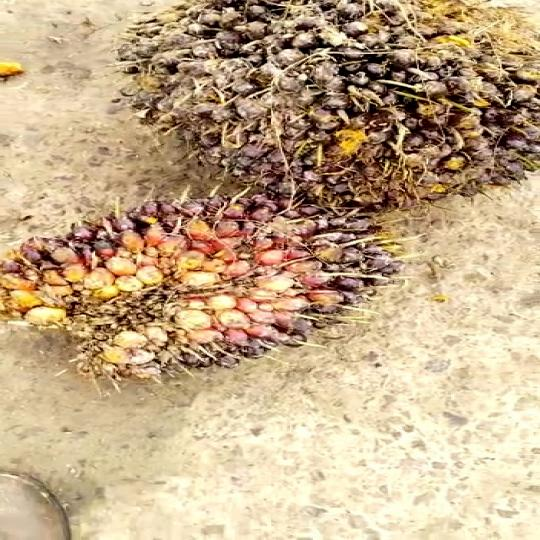kurang masak: (105, 0, 540, 228), (19, 195, 418, 395)
